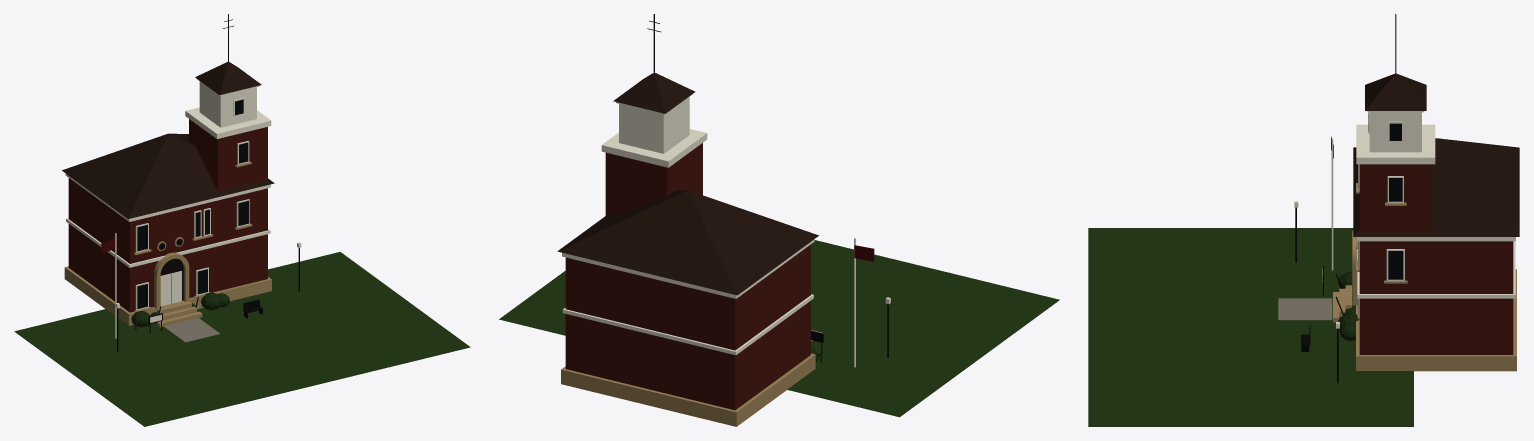
The model's file is RossvilleHistoricalSociety.obj.
3 views of the same model, side by side, from view 1: azimuth 30°, elevation 25°; view 2: azimuth 150°, elevation 25°; view 3: azimuth 270°, elevation 25° (orthographic). The views are drawn at different scales.
Parts seen in each view (by area): view 1: RossvilleHistoricalSociety; view 2: RossvilleHistoricalSociety; view 3: RossvilleHistoricalSociety.
Boxes of the visible parts, x1,y1,x2,y2 form: RossvilleHistoricalSociety: [14, 14, 470, 426]; RossvilleHistoricalSociety: [499, 14, 1059, 426]; RossvilleHistoricalSociety: [1088, 14, 1519, 426].
Bounding box in the file's own units: 26 × 21.14 × 23.85.
